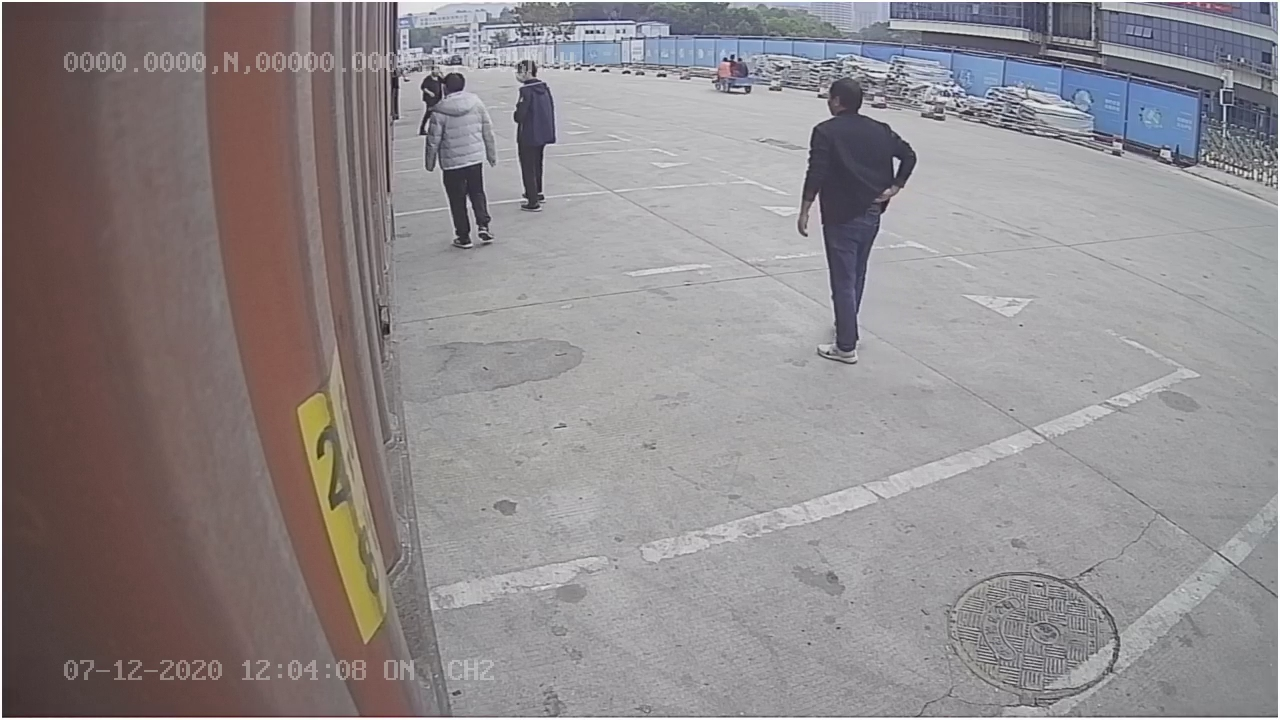person: (794, 75, 919, 367)
